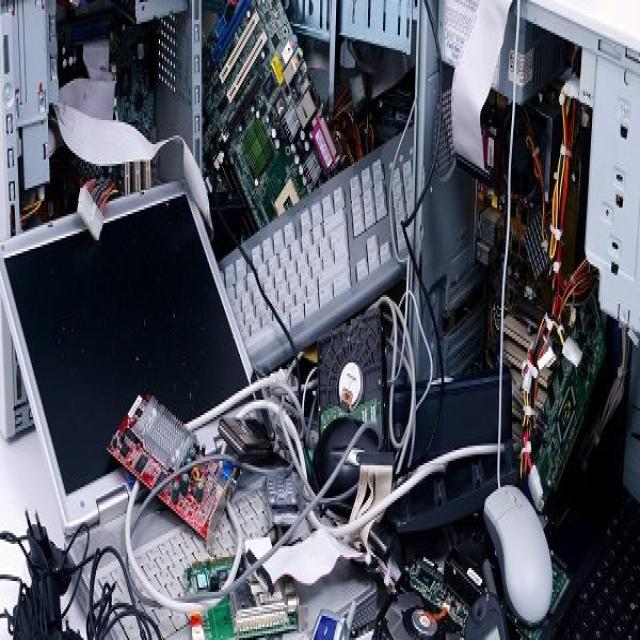Hazard: (0, 0, 631, 640)
